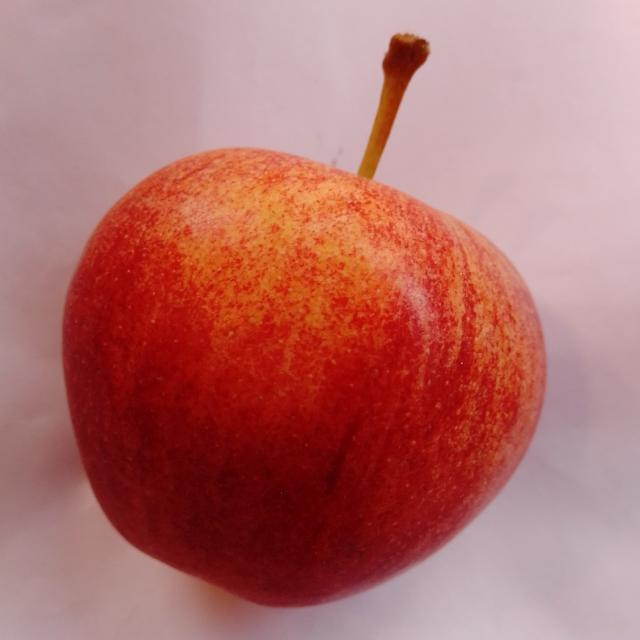Fresh Apple: (55, 148, 527, 594)
